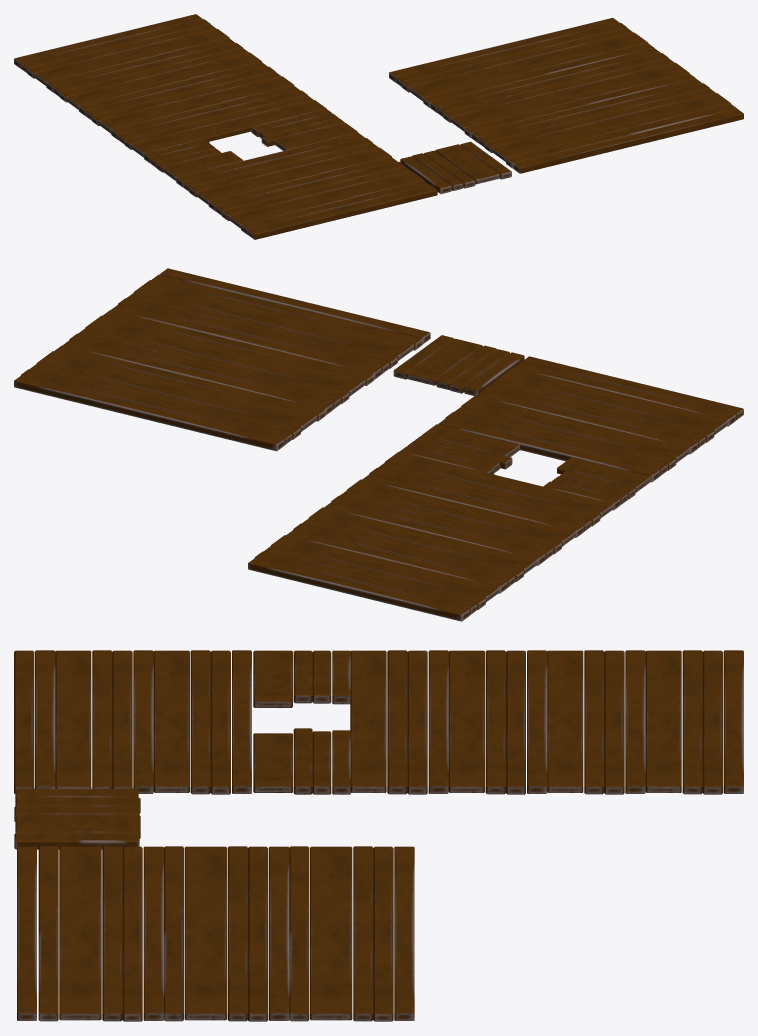
File: ceiling.fbx
3 renders of one model, top to bottom at view 1: azimuth 30°, elevation 25°; view 2: azimuth 150°, elevation 25°; view 3: azimuth 270°, elevation 25°, orthographic. The views are drawn at different scales.
Parts seen in each view (by area): view 1: ceilingmodel; view 2: ceilingmodel; view 3: ceilingmodel.
Part boxes in pixels (bbox=[...]): ceilingmodel: bbox=[14, 14, 743, 239]; ceilingmodel: bbox=[14, 268, 743, 621]; ceilingmodel: bbox=[14, 650, 743, 1021].
Bounding box in the file's own units: 34.22 × 0.5315 × 28.96.
Materials: 1 (1 with a texture image).
